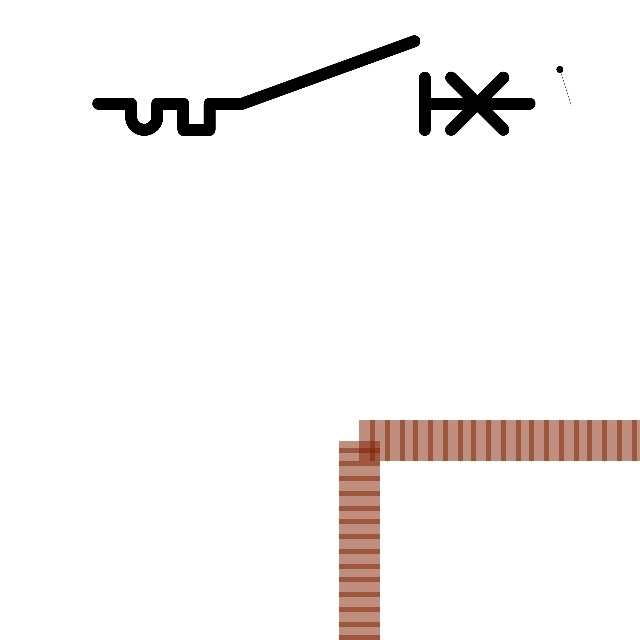interruptor_termomagnetico: (87, 30, 541, 141)
